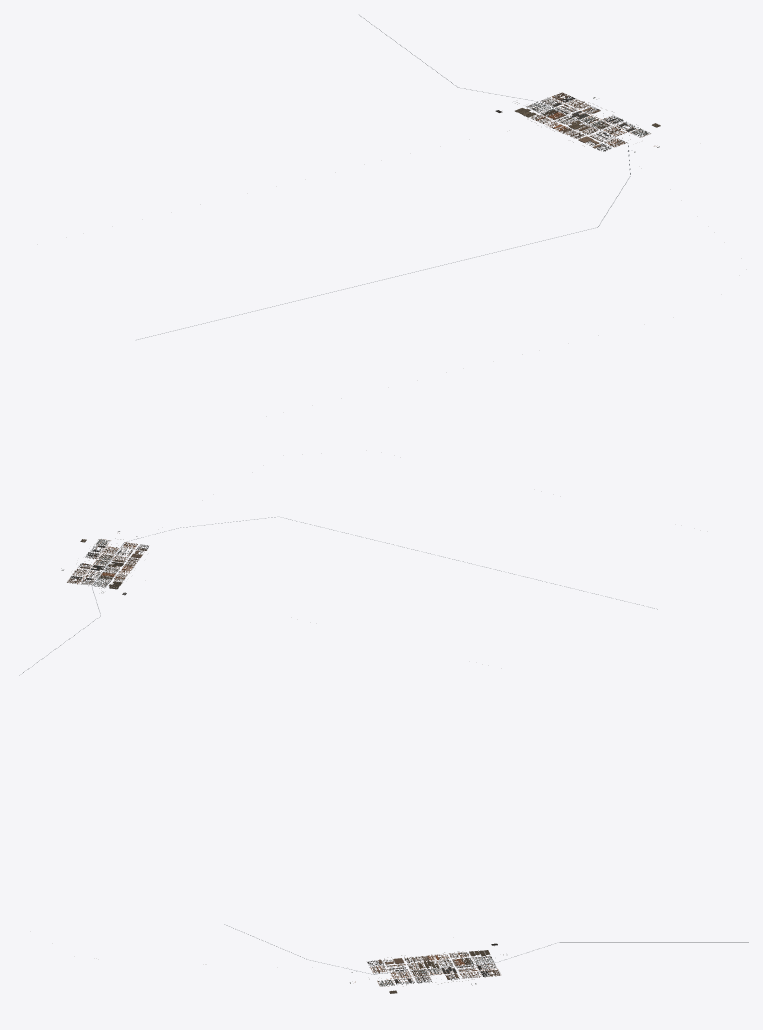
The model's file is leuna_plant.glb.
3 views of the same model, one above another, from view 1: azimuth 30°, elevation 25°; view 2: azimuth 150°, elevation 25°; view 3: azimuth 270°, elevation 25° (orthographic). The views are drawn at different scales.
Parts seen in each view (by area): view 1: Plant_skyways; view 2: Plant_skyways; view 3: Plant_skyways.
Boxes of the visible parts, <box> form: Plant_skyways: <box>520,96,643,148</box>; Plant_skyways: <box>76,541,144,586</box>; Plant_skyways: <box>372,951,494,983</box>.
Bounding box in the file's own units: 17142 × 69.02 × 17508.
